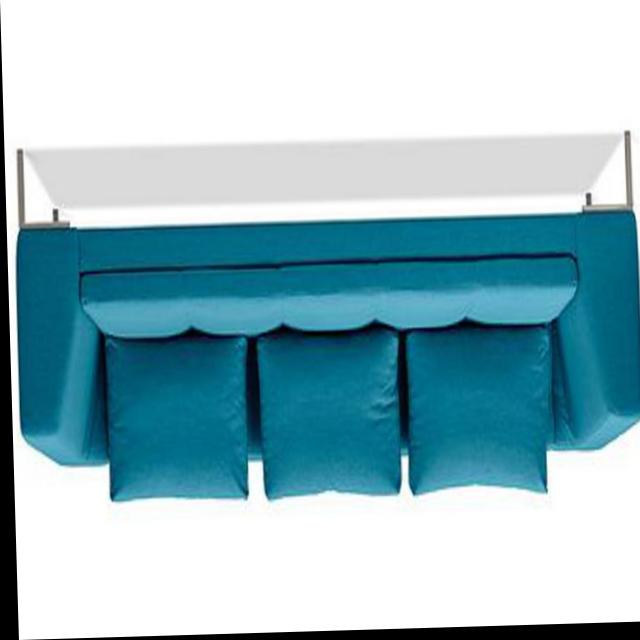Sofa: (8, 137, 640, 510)
